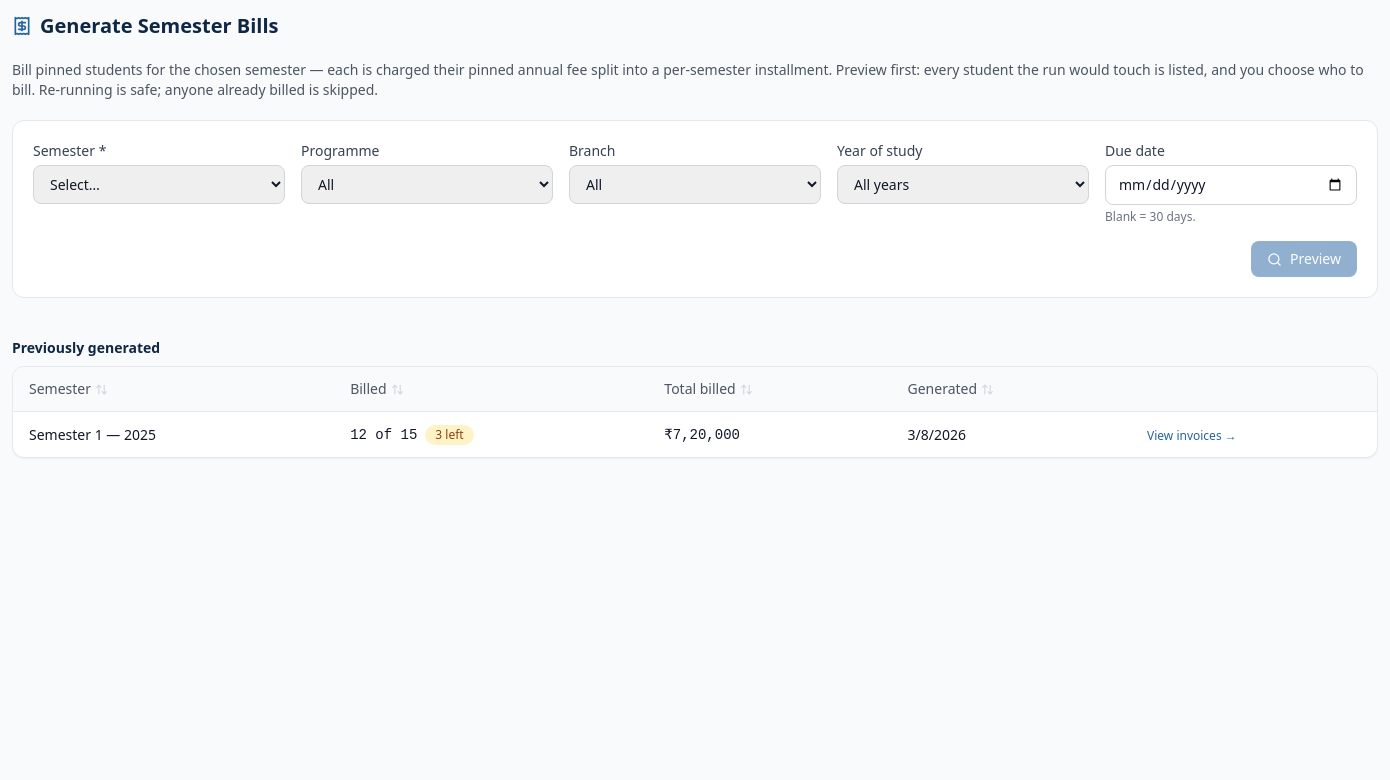
Test: <GenerateBillsPage /> — staleness and gating › clears the table when a filter changes, so a stale cohort cannot be billed
This screenshot has width=1390, height=780.
Step 1. Select "Semester 1 — 2025 (active)" in the dropdown labelled "Semester *" → (159, 184), box [33,165,285,204]
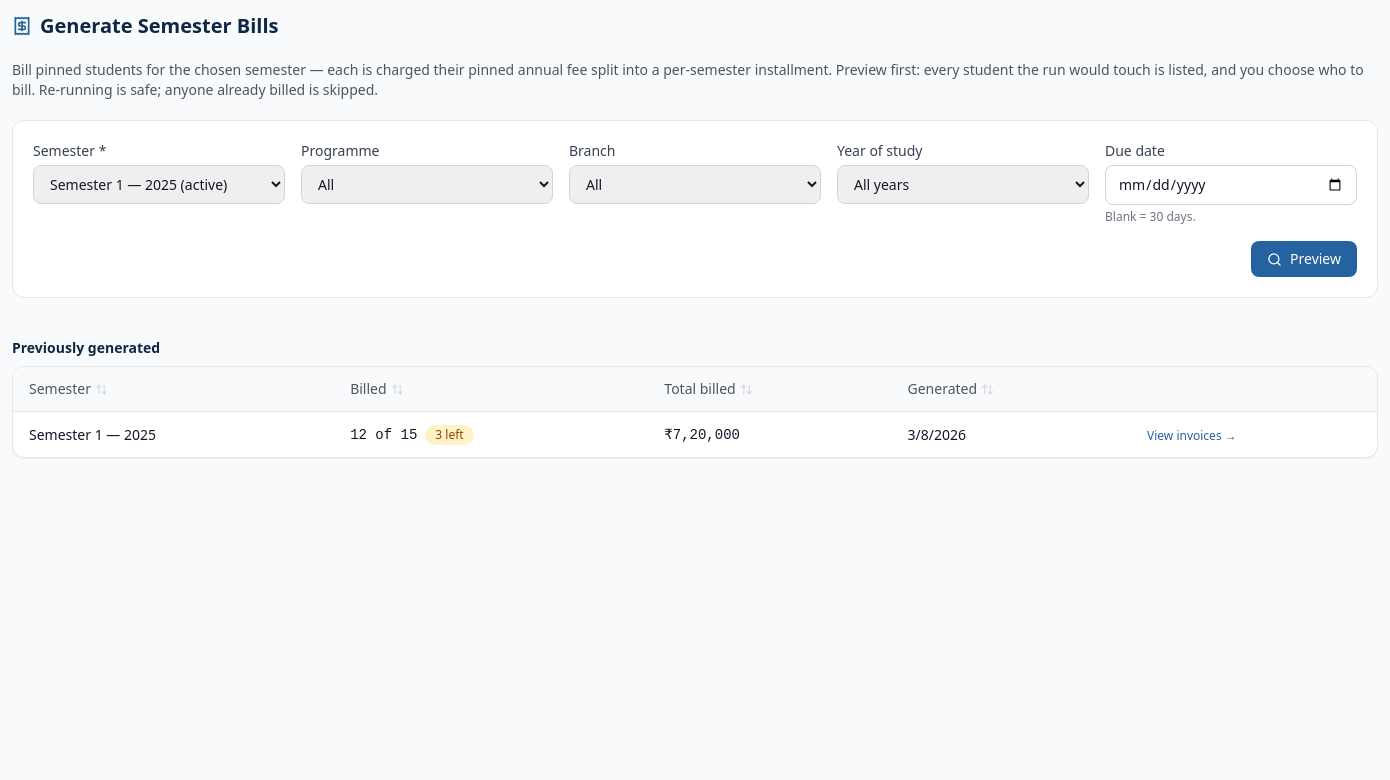
Step 2. Click the button "Preview" → click(1304, 259), box [1251,241,1357,277]
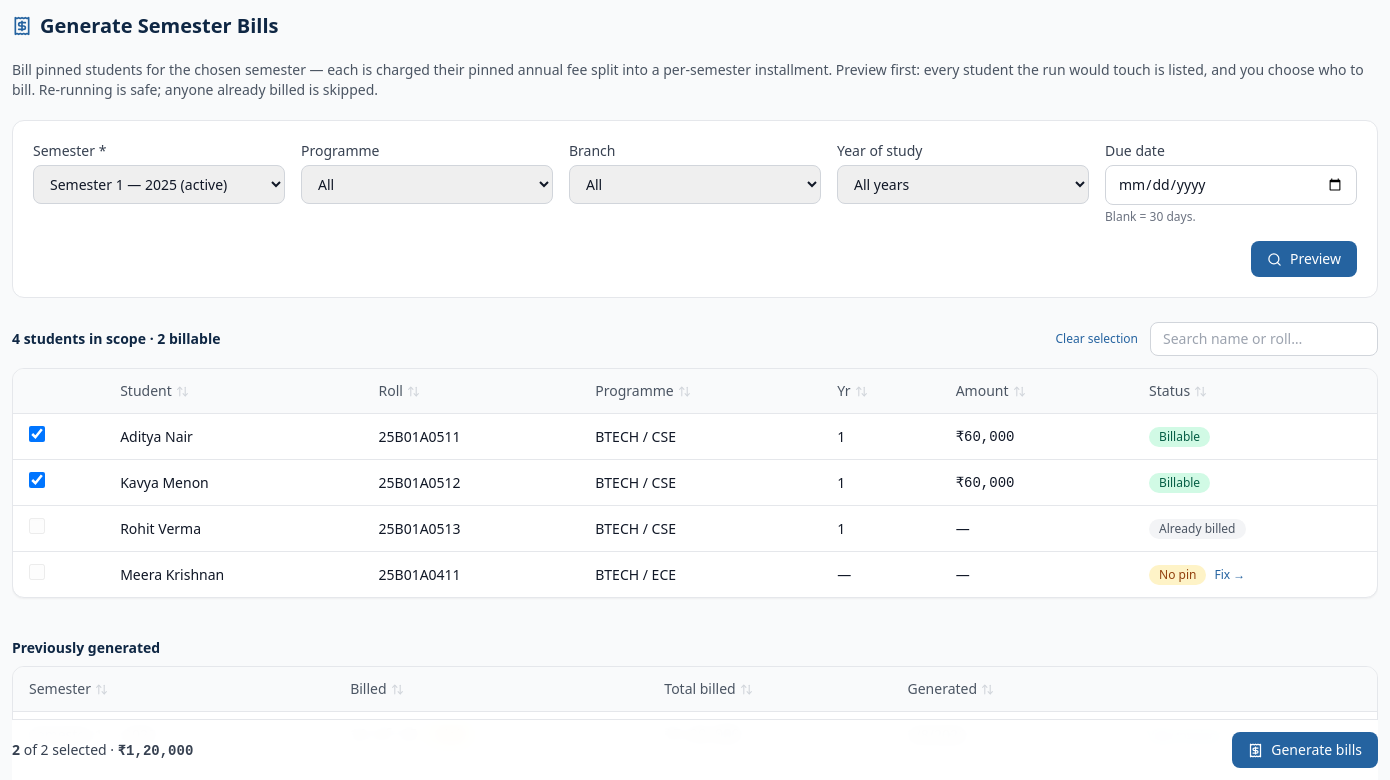
Expected: the text "Aditya Nair" is shown, [104,414,362,460]
Step 3. Select "BTECH — B.Tech" in the dropdown labelled "Programme" → (427, 184), box [301,165,553,204]
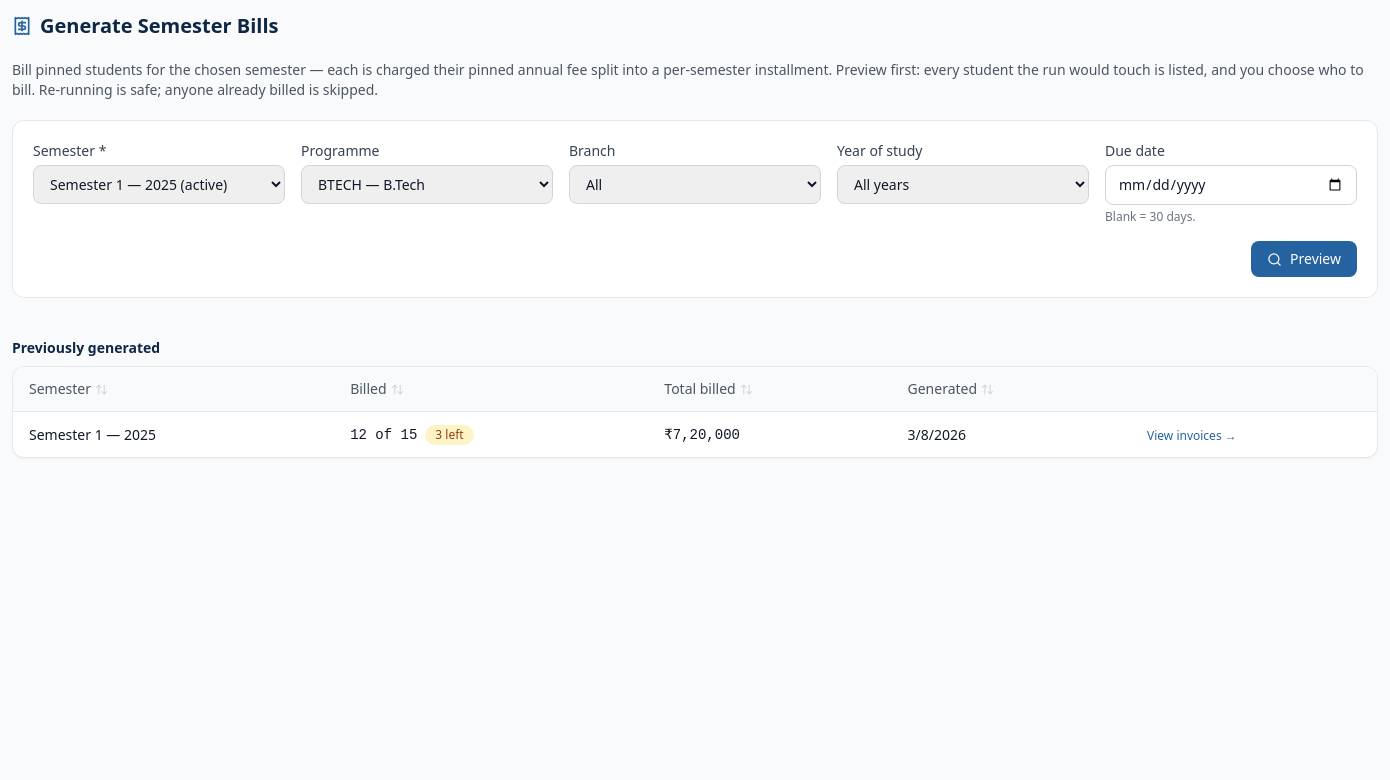
Expected: the text "Aditya Nair" is gone
Expected: the button "Generate bills" is gone
